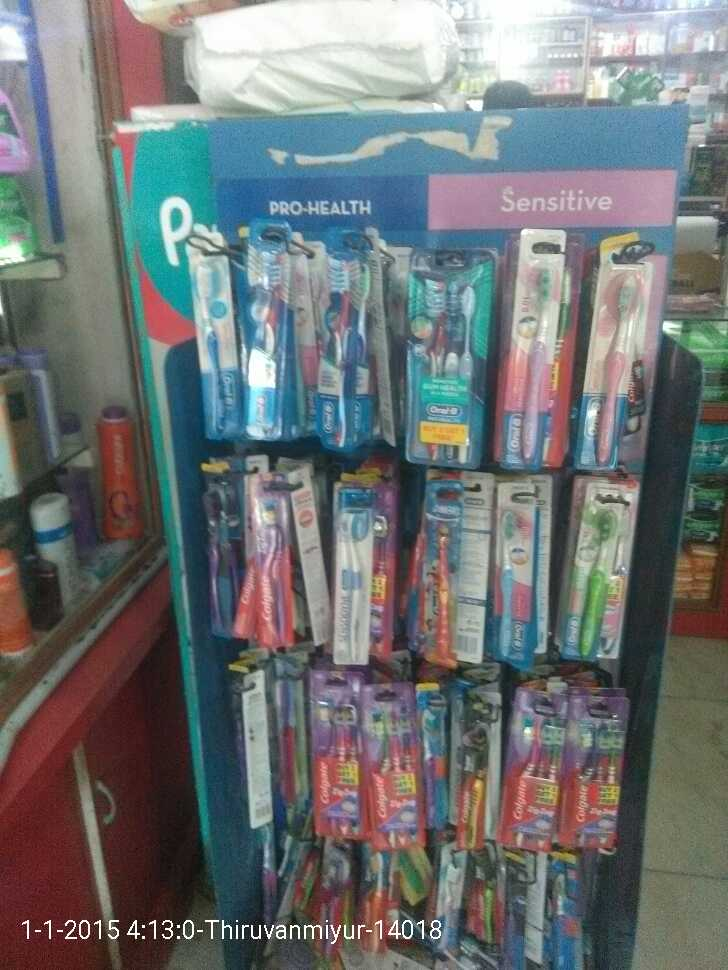oralb: (402, 266, 477, 472), (311, 248, 365, 443), (589, 266, 635, 469), (514, 253, 546, 471)
